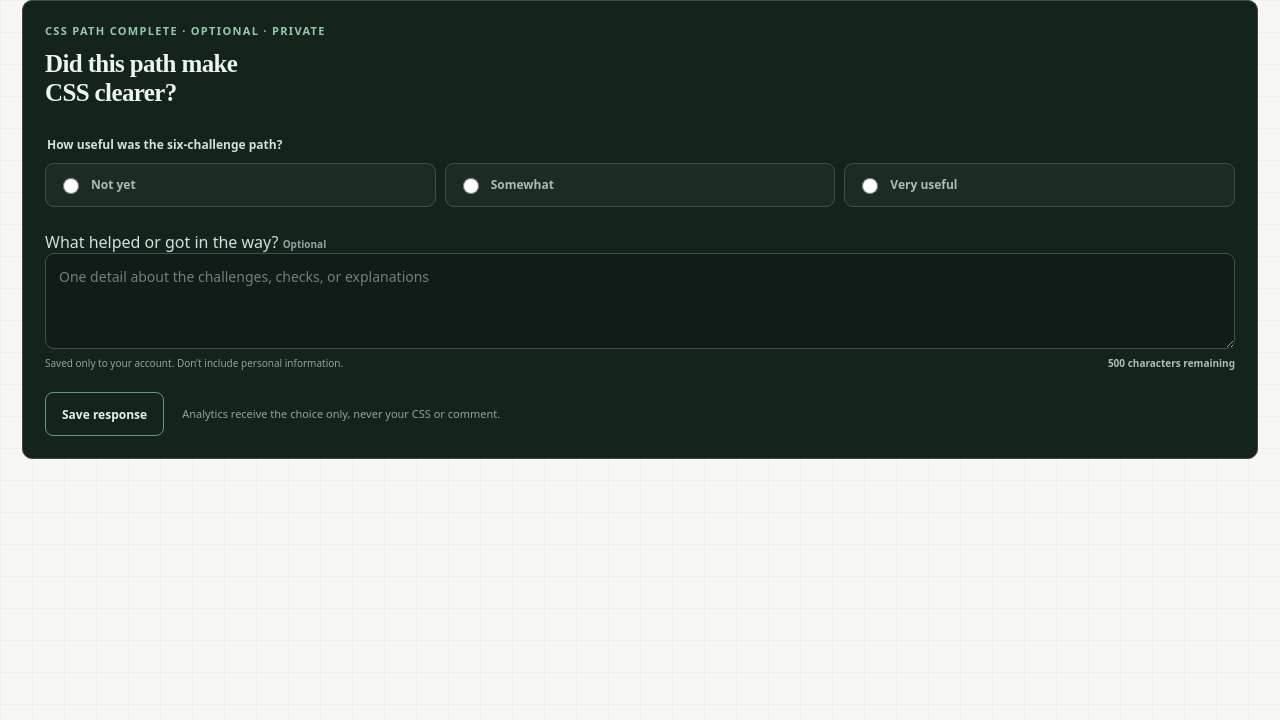
CssPathFeedback › saves one bounded response and excludes the comment from analytics
Click the radio button labelled "Very useful": (870, 186) x1=862 y1=178 x2=878 y2=194
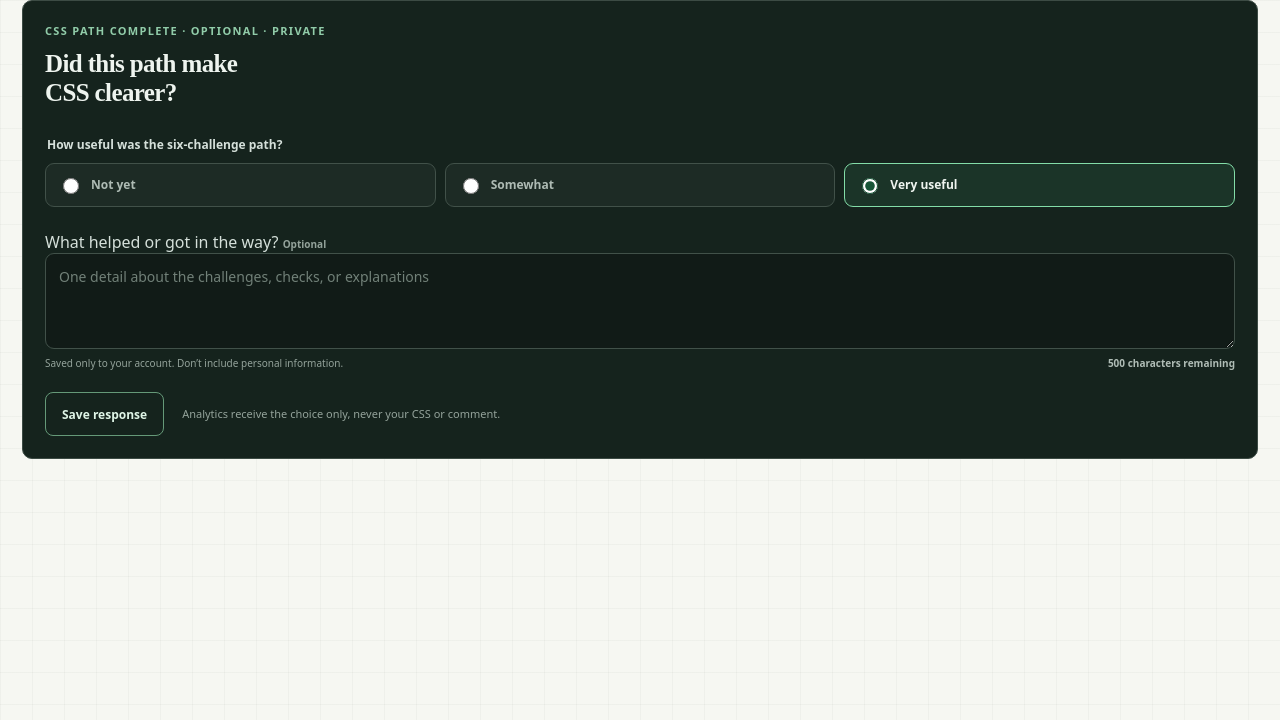
In the text box: (640, 300) x1=45 y1=252 x2=1235 y2=348, type "The checks made selectors click."
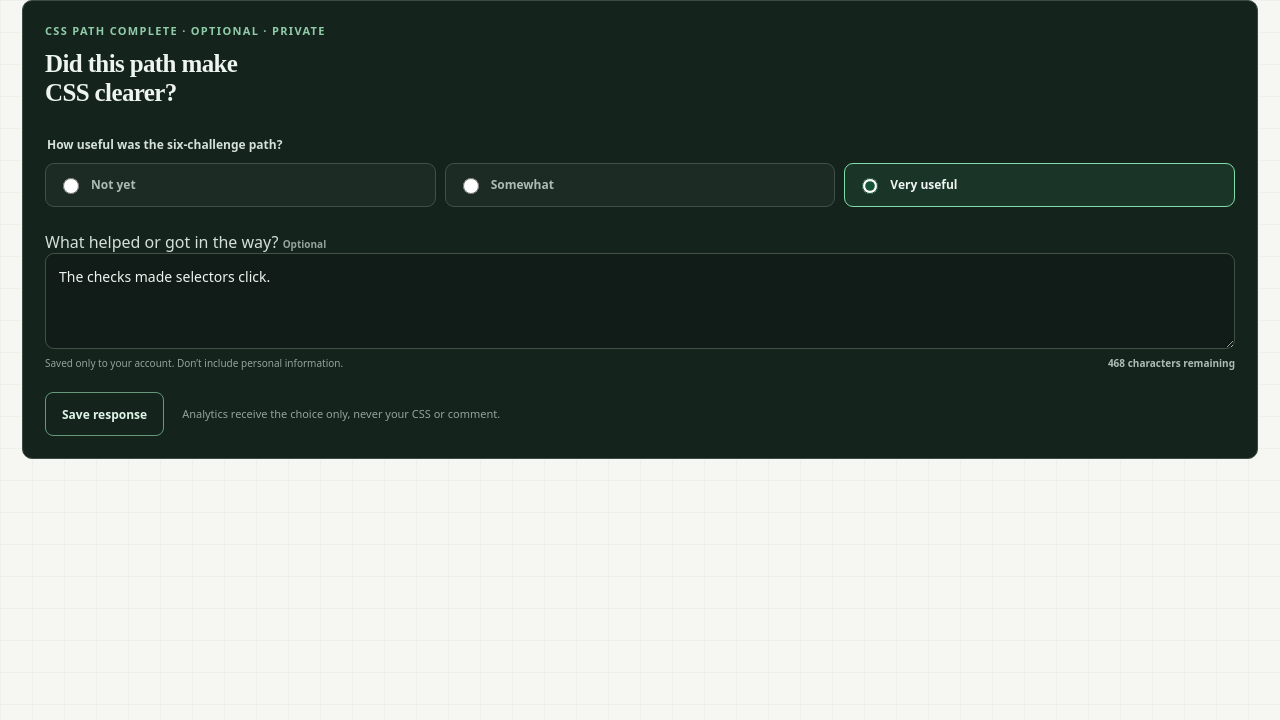
Click the button "Save response": (105, 414) x1=45 y1=392 x2=164 y2=436
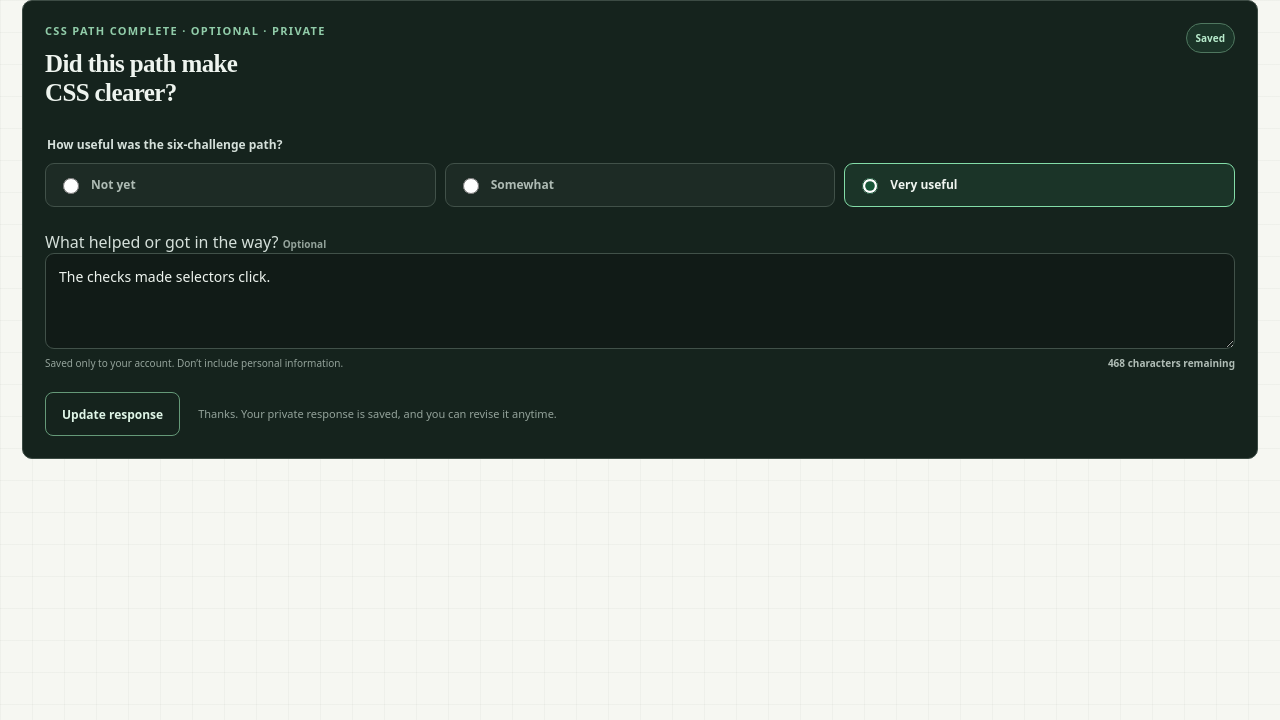
Check: the text "private response is saved" is shown, box x1=198 y1=406 x2=557 y2=421
